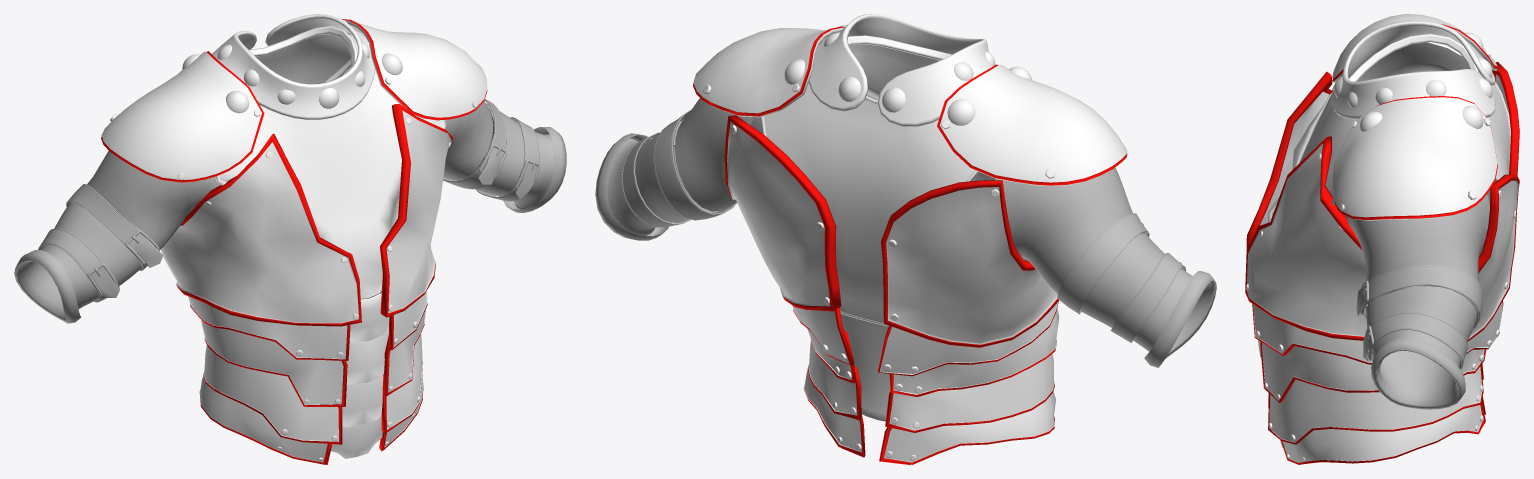
Rendered from manAr.fbx.
3 views of the same model, side by side, from view 1: azimuth 30°, elevation 25°; view 2: azimuth 150°, elevation 25°; view 3: azimuth 270°, elevation 25° (orthographic). The views are drawn at different scales.
Visible parts, largest first — view 1: Ch2, Ch1, Ch3, ArmC; view 2: Ch2, ArmC, Ch1, Ch3; view 3: Ch2, Ch1, ArmC, Ch3.
Boxes of the visible parts, x1,y1,x2,y2 form: Ch2: [160, 26, 452, 326]; Ch1: [101, 14, 487, 182]; Ch3: [188, 291, 427, 464]; ArmC: [14, 99, 566, 323]; Ch2: [724, 35, 1058, 347]; ArmC: [595, 98, 1216, 367]; Ch1: [693, 14, 1127, 186]; Ch3: [792, 257, 1059, 464]; Ch2: [1245, 34, 1519, 341]; Ch1: [1332, 14, 1497, 220]; ArmC: [1344, 42, 1489, 409]; Ch3: [1252, 301, 1503, 464].
Bounding box in the file's own units: 134 × 92.29 × 57.57.
